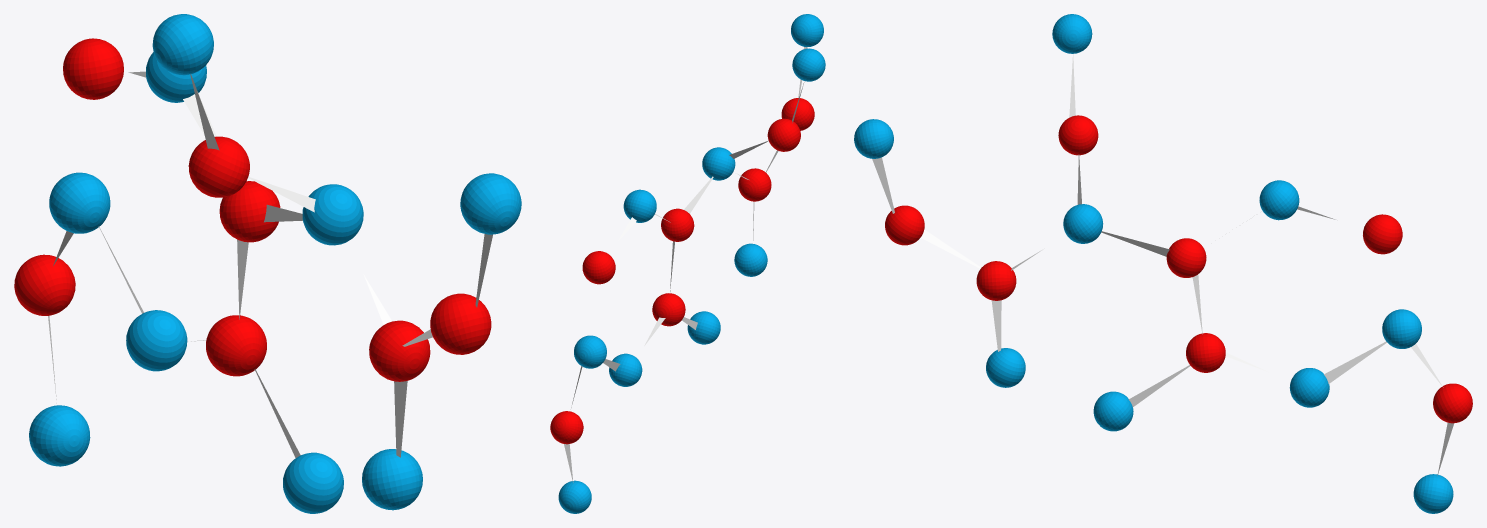
Rendered from Molecule.fbx.
3 views of the same model, side by side, from view 1: azimuth 30°, elevation 25°; view 2: azimuth 150°, elevation 25°; view 3: azimuth 270°, elevation 25° (orthographic). The views are drawn at different scales.
Visible parts, largest first — view 1: Sphere.012; view 2: Sphere.012; view 3: Sphere.012.
Boxes of the visible parts, <box> form: Sphere.012: <box>14,14,521,513</box>; Sphere.012: <box>550,14,825,513</box>; Sphere.012: <box>854,14,1472,513</box>.
Size of the model in its own units: 142 by 435 by 545.
